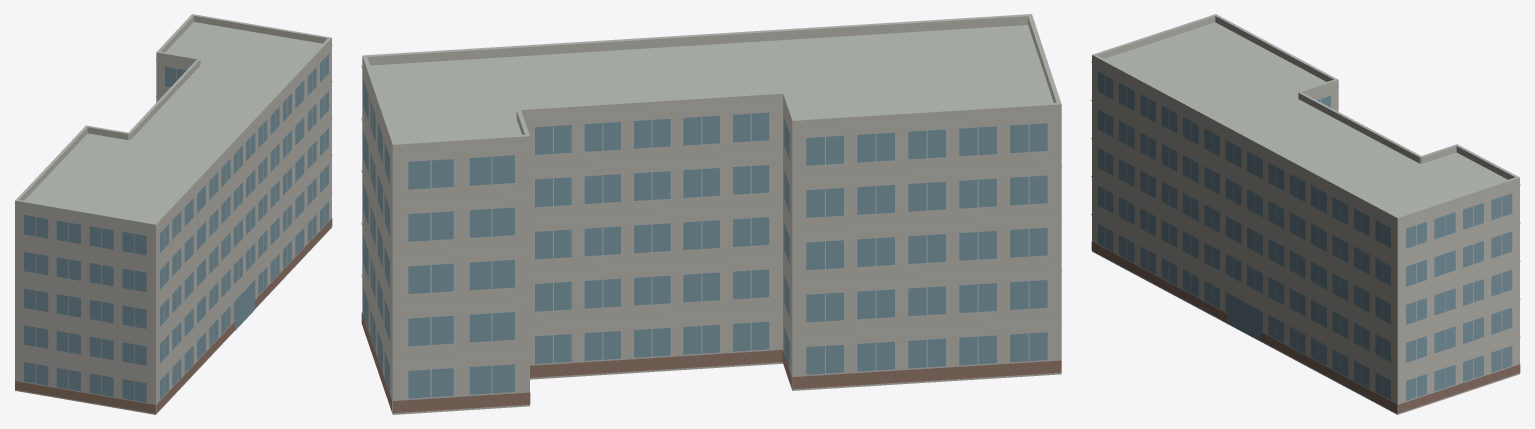
File: public-ec112c07-e280-4467-806e-43aa8e602dd3.glb
The picture shows the model from 3 angles, left to right: view 1: azimuth 30°, elevation 25°; view 2: azimuth 150°, elevation 25°; view 3: azimuth 270°, elevation 25°; orthographic projection. The views are drawn at different scales.
Visible parts, largest first — view 1: public-ec112c07-e280-4467-806e-43aa8e602dd3; view 2: public-ec112c07-e280-4467-806e-43aa8e602dd3; view 3: public-ec112c07-e280-4467-806e-43aa8e602dd3.
Part boxes in pixels (x1,y1,x2,y2): public-ec112c07-e280-4467-806e-43aa8e602dd3: (15,14,332,414); public-ec112c07-e280-4467-806e-43aa8e602dd3: (361,14,1061,414); public-ec112c07-e280-4467-806e-43aa8e602dd3: (1091,14,1520,414).
Size of the model in its own units: 44.63 by 20 by 39.55.
